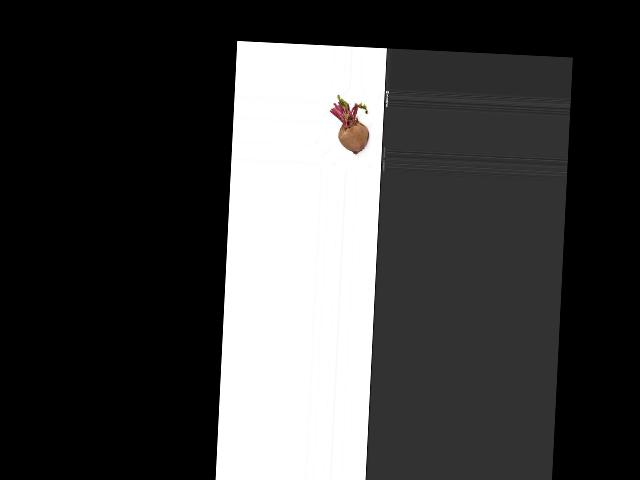beet: (327, 94, 371, 155)
